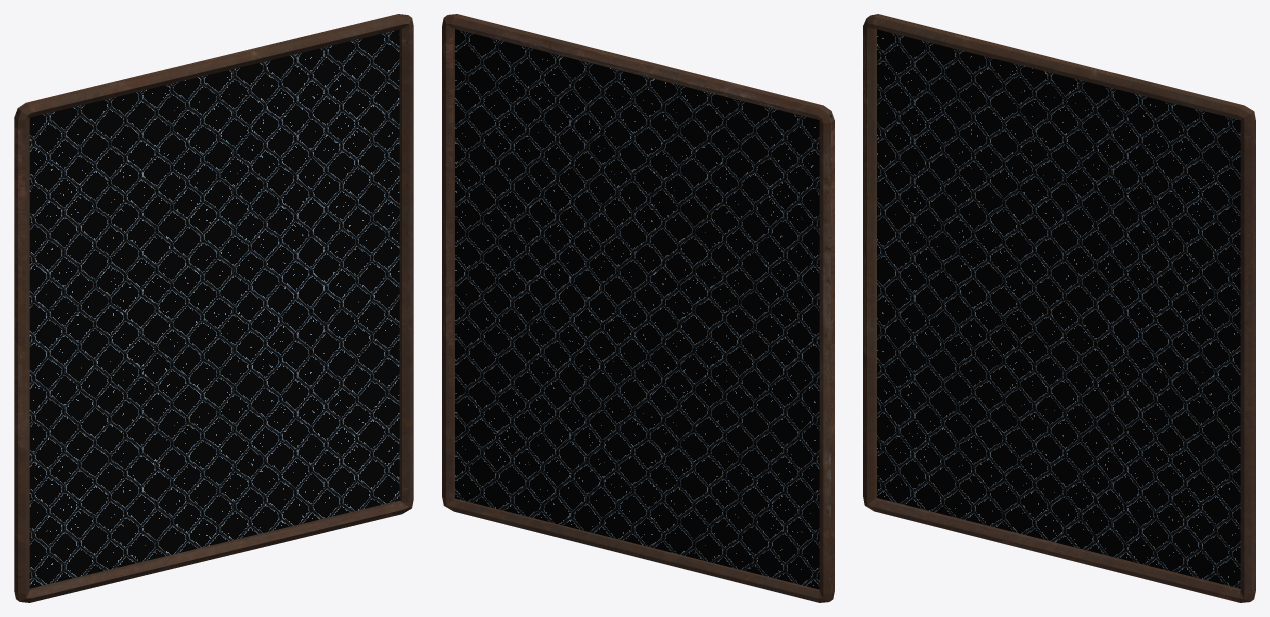
The model's file is gate.glb.
The picture shows the model from 3 angles, left to right: view 1: azimuth 30°, elevation 25°; view 2: azimuth 150°, elevation 25°; view 3: azimuth 330°, elevation 25°; orthographic projection.
Visible parts, largest first — view 1: gate; view 2: gate; view 3: gate.
Boxes of the visible parts, x1,y1,x2,y2 form: gate: [14, 14, 413, 602]; gate: [442, 14, 834, 602]; gate: [863, 14, 1255, 602].
Bounding box in the file's own units: 1.03 × 1.25 × 0.0453.
Materials: 2 (2 with a texture image).
